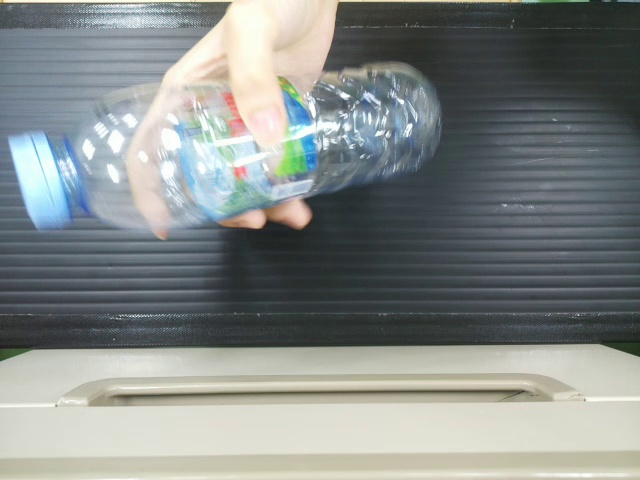bottle: (1, 62, 445, 237)
